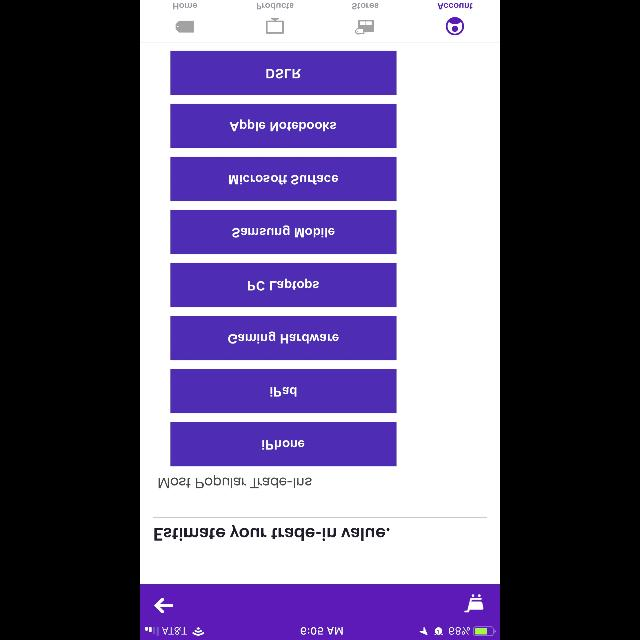icon: (464, 594, 484, 612), (446, 17, 464, 35), (154, 597, 173, 613), (176, 21, 194, 33)
image: (266, 18, 284, 34), (356, 20, 374, 34)
text: (154, 525, 390, 541), (158, 474, 312, 488), (256, 3, 294, 9), (438, 3, 472, 9), (352, 3, 378, 9), (174, 3, 198, 9)
textbutton: (171, 51, 397, 95), (171, 104, 397, 148), (171, 157, 397, 201), (171, 210, 397, 254), (171, 263, 397, 307), (171, 316, 397, 360), (170, 369, 396, 413), (171, 422, 397, 466)
uppertaskbar: (140, 626, 500, 640)
